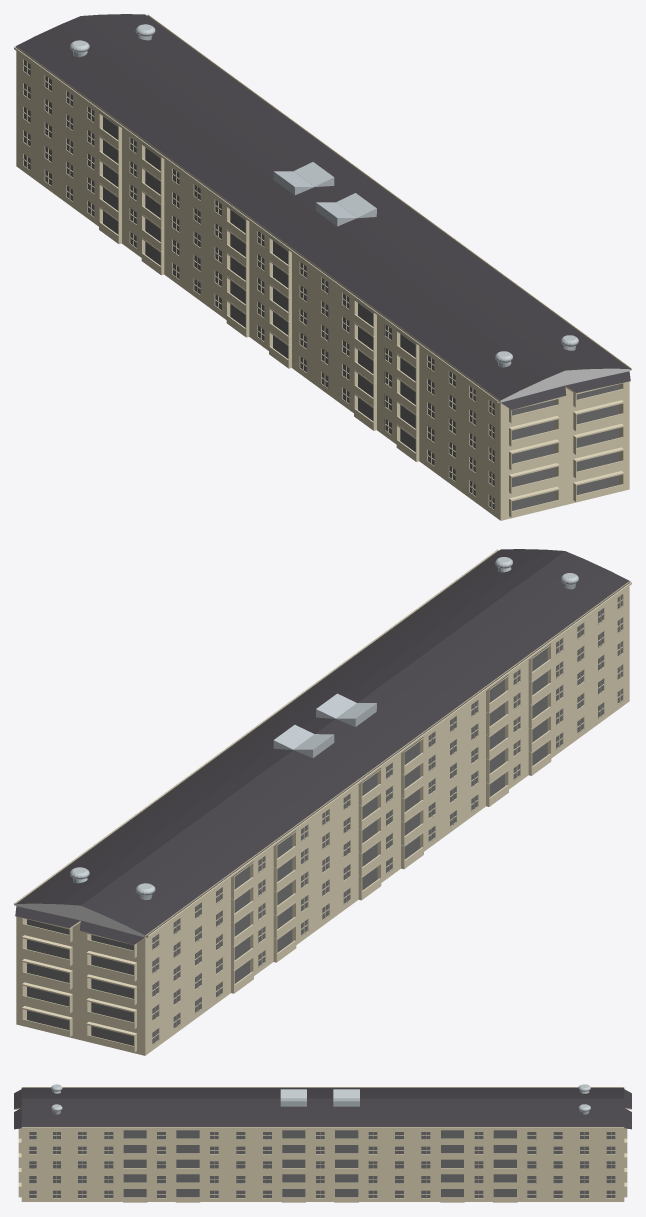
The model's file is buildibg3.fbx.
3 views of the same model, one above another, from view 1: azimuth 30°, elevation 25°; view 2: azimuth 150°, elevation 25°; view 3: azimuth 270°, elevation 25° (orthographic). The views are drawn at different scales.
Parts seen in each view (by area): view 1: Cube; view 2: Cube; view 3: Cube.
Part boxes in pixels (<box>): Cube: <box>14,14,631,520</box>; Cube: <box>14,549,631,1055</box>; Cube: <box>14,1084,631,1202</box>.
Size of the model in its own units: 2098 by 2071 by 13355.
